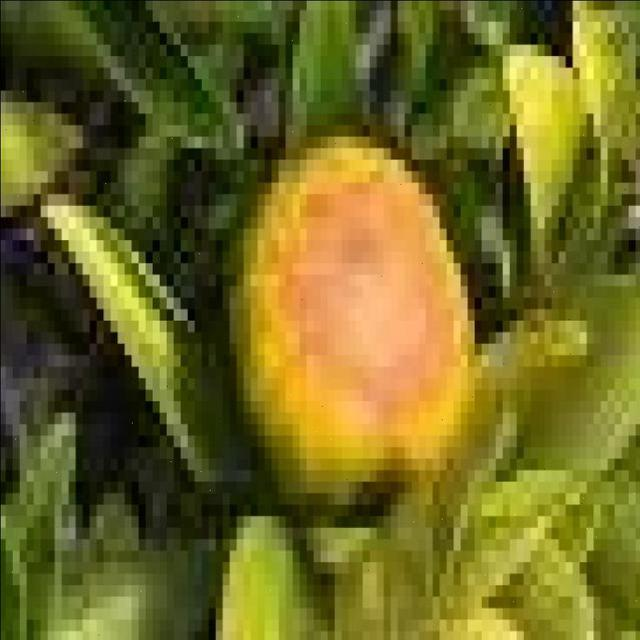Sunscald Fruit: (188, 98, 314, 290)
